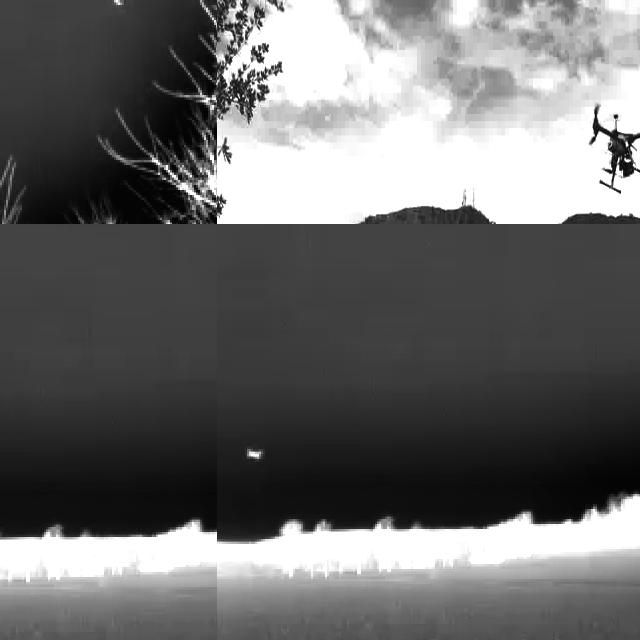0: (104, 0, 130, 22)
1: (235, 442, 273, 474)
drone: (581, 112, 640, 197)
